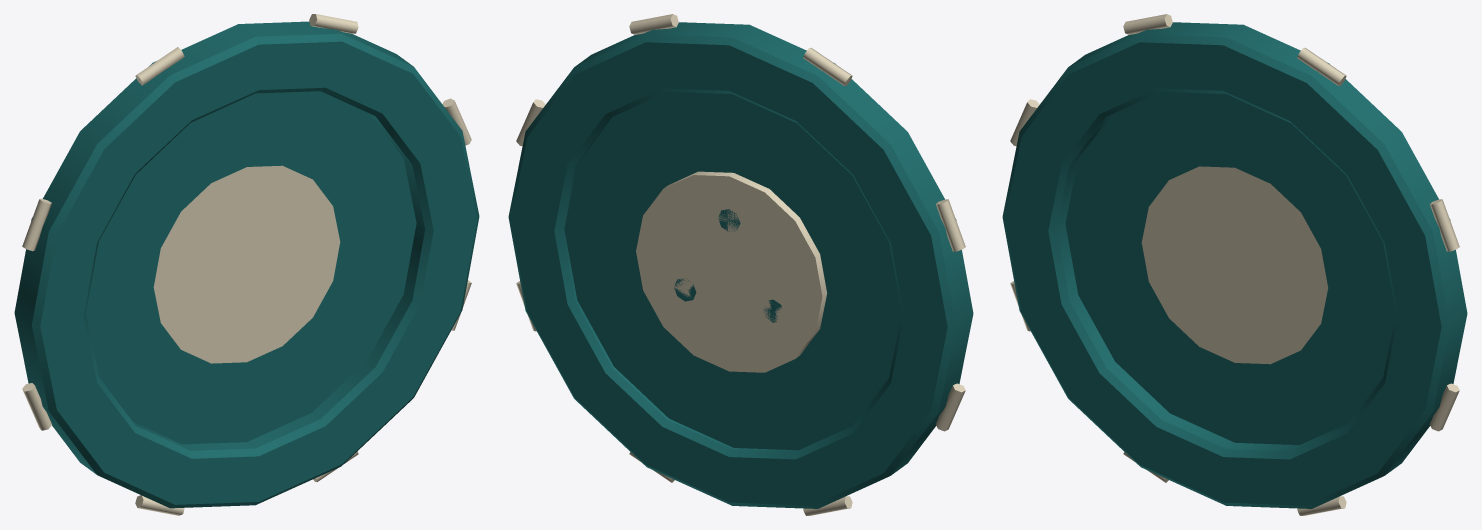
The model's file is k5_lashing_ring.obj.
3 views of the same model, side by side, from view 1: azimuth 30°, elevation 25°; view 2: azimuth 150°, elevation 25°; view 3: azimuth 330°, elevation 25° (orthographic).
Parts seen in each view (by area): view 1: k5_lashing_ring; view 2: k5_lashing_ring; view 3: k5_lashing_ring.
Part boxes in pixels (bbox=[...]): k5_lashing_ring: bbox=[14, 14, 479, 515]; k5_lashing_ring: bbox=[508, 14, 973, 515]; k5_lashing_ring: bbox=[1002, 14, 1467, 515].
Bounding box in the file's own units: 1.66 × 1.66 × 0.1512.
